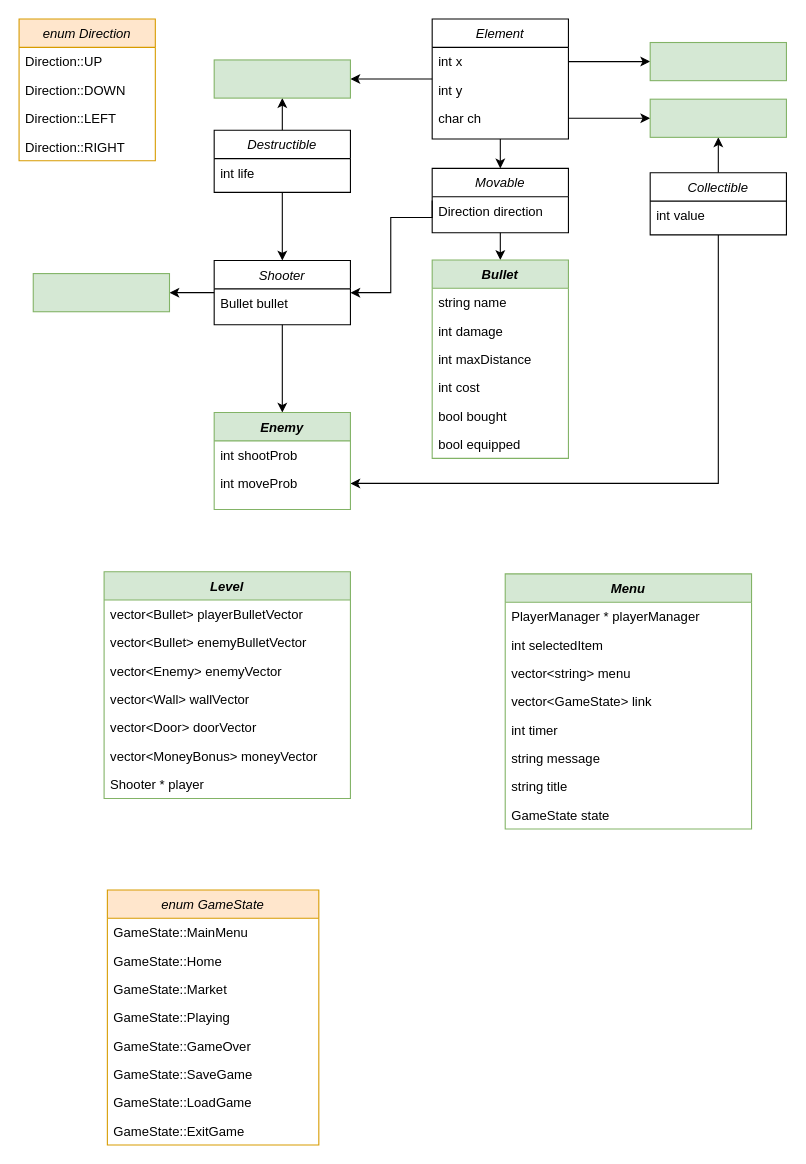
Image size: 806x1164. Some labels were removed from this diagram. Each missing label, with the centre of its shape:
"Door" goes at (x=717, y=61).
"MoneyBonus" goes at (x=717, y=117).
"Player" goes at (x=100, y=292).
"Wall" goes at (x=281, y=78).
